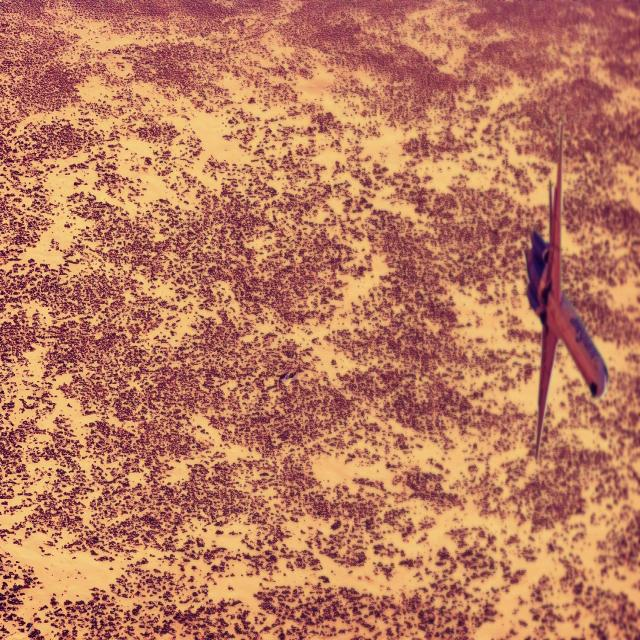airplane: (524, 121, 608, 461)
